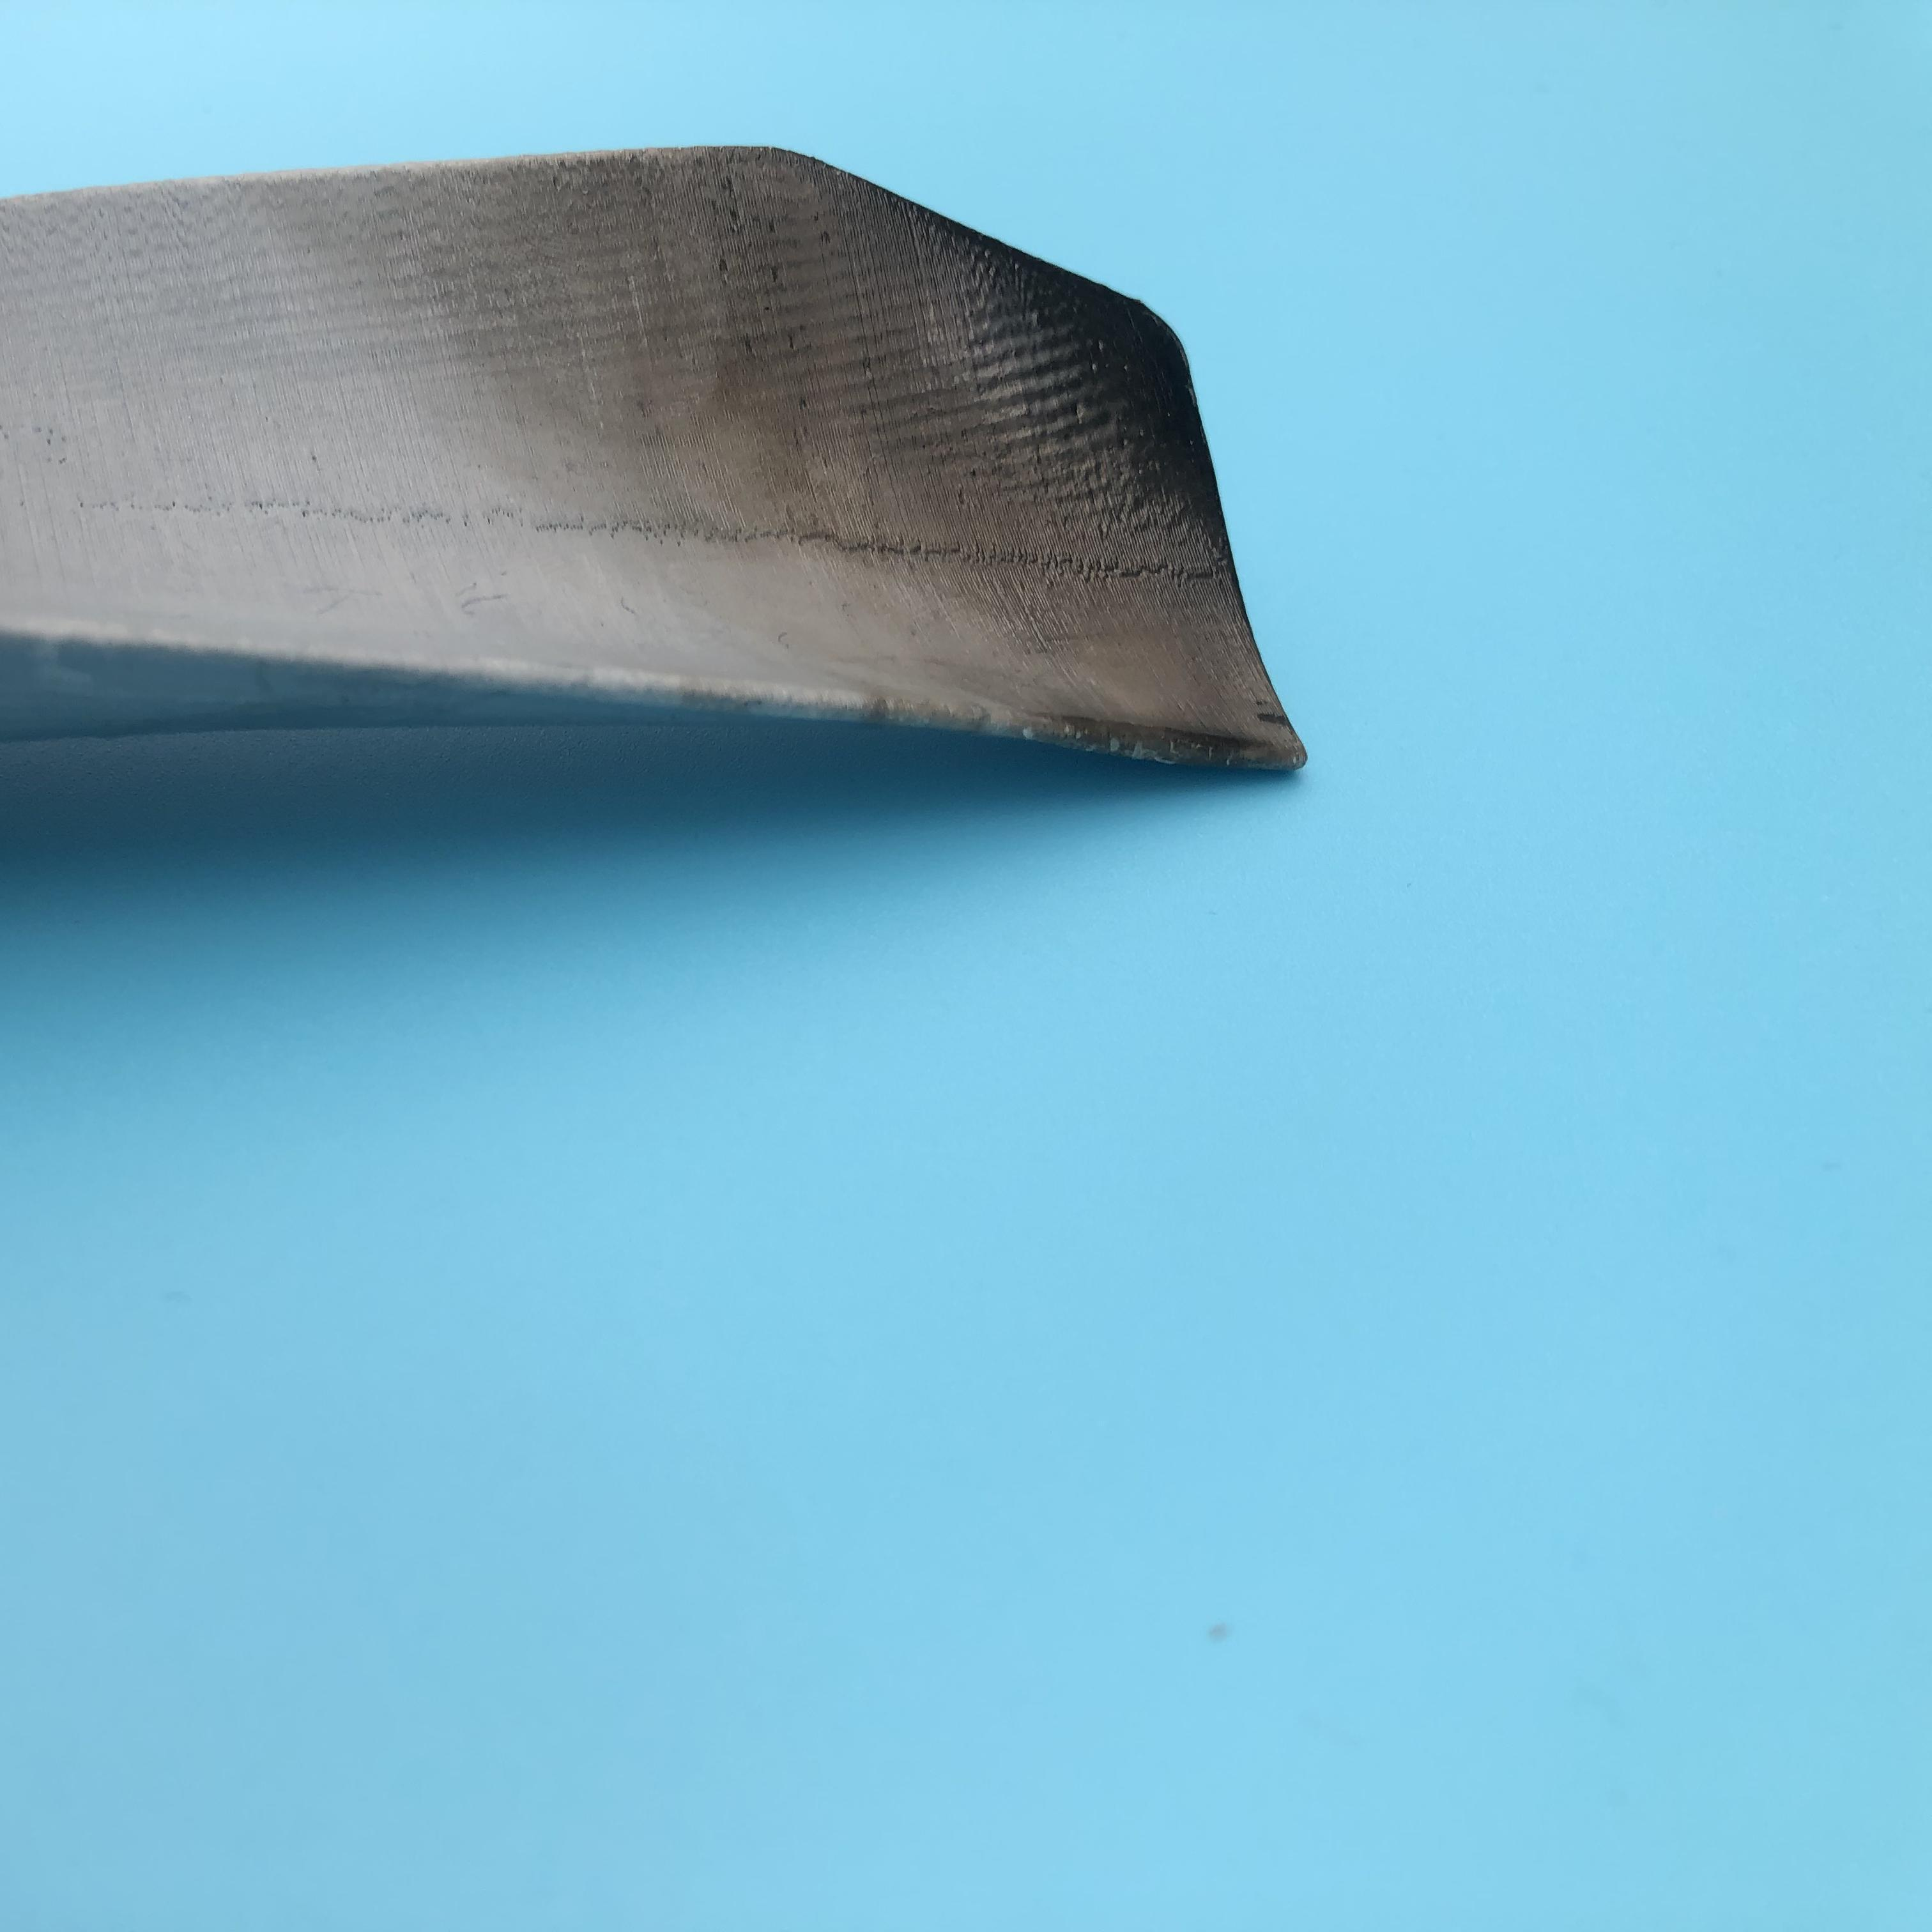ablation: (575, 189, 1267, 740)
